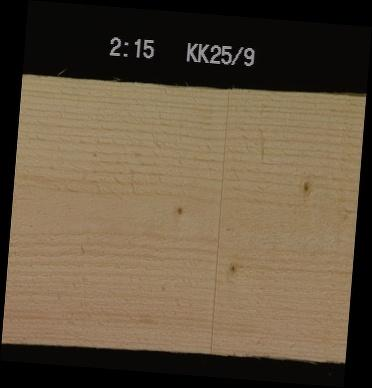small_knot: (295, 176, 318, 195), (224, 258, 243, 277), (170, 202, 188, 217)
